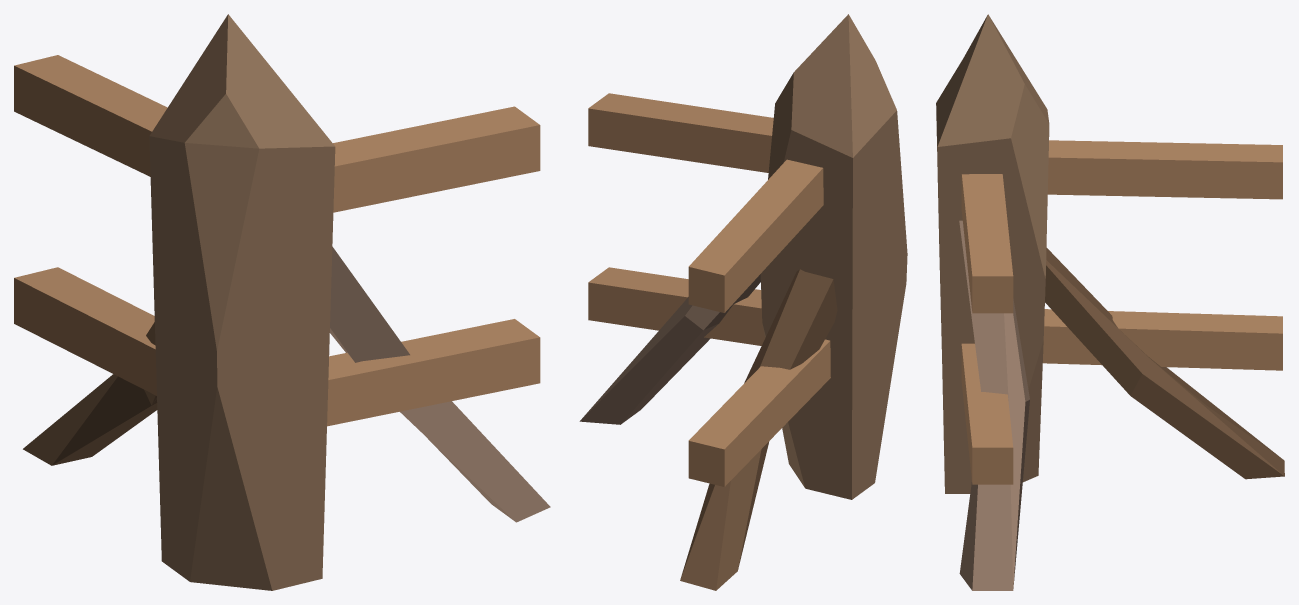
The model's file is fence_corner_2.glb.
3 renders of one model, left to right at view 1: azimuth 30°, elevation 25°; view 2: azimuth 150°, elevation 25°; view 3: azimuth 270°, elevation 25°, orthographic. The views are drawn at different scales.
Visible parts, largest first — view 1: fence_corner_2; view 2: fence_corner_2; view 3: fence_corner_2.
Boxes of the visible parts, bbox=[...] form: fence_corner_2: bbox=[14, 14, 550, 590]; fence_corner_2: bbox=[579, 14, 907, 590]; fence_corner_2: bbox=[936, 14, 1284, 590].
Bounding box in the file's own units: 2.34 × 3.47 × 2.4.
